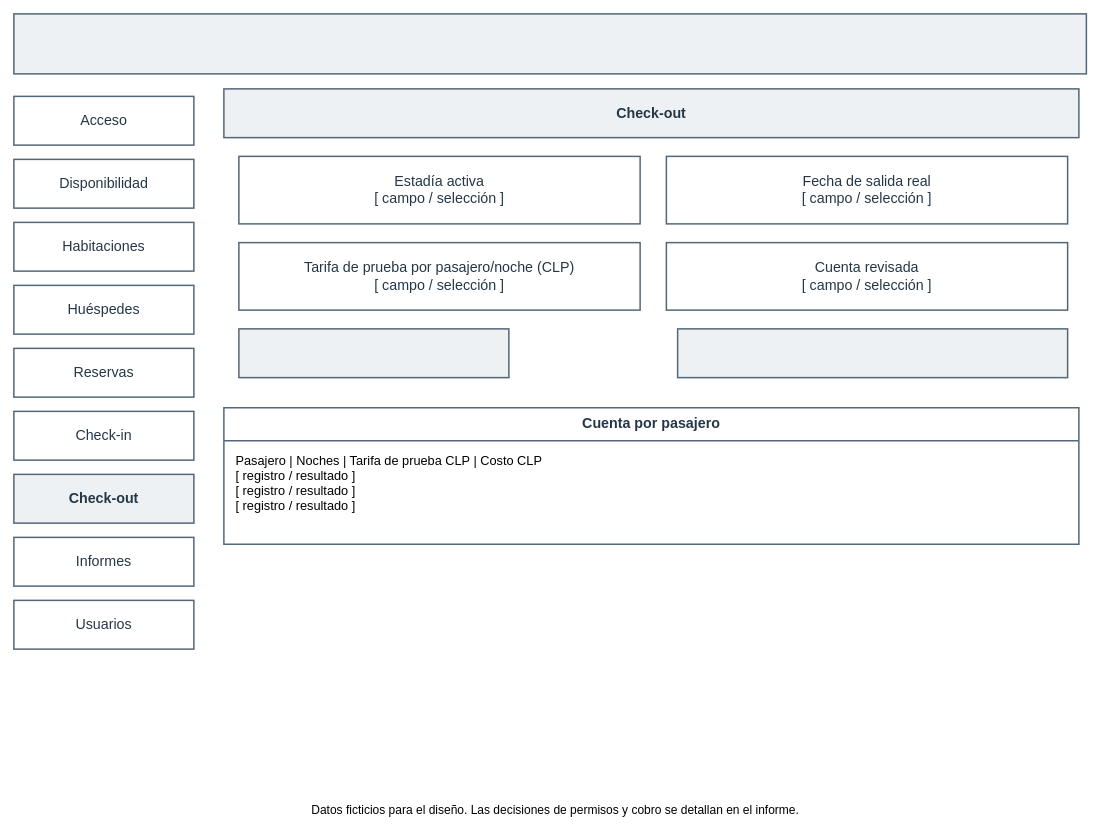
Image size: 1100x836. Some labels were removed from this diagram. Here are the shapes that lost their labels. From the top down, the centre of each, then its label:
At point (550, 43): "Hotel Duerme Bien · Sistema de pasajeros".
At point (373, 353): "Calcular cuenta".
At point (872, 353): "Confirmar check-out".
